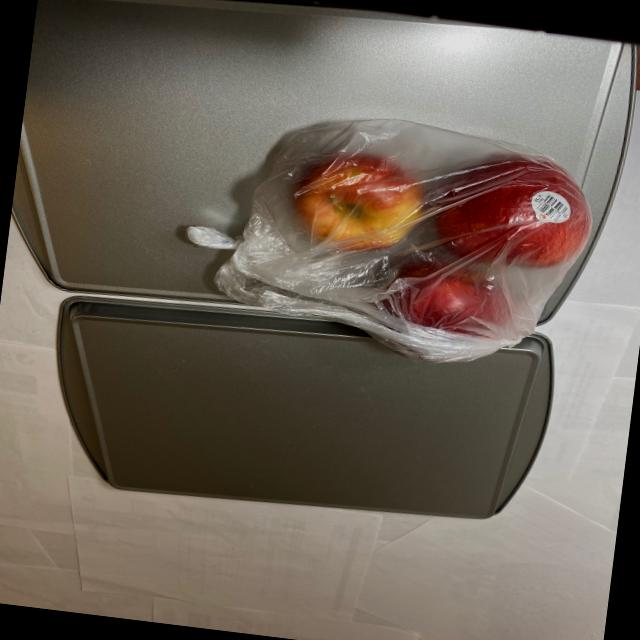apple: (268, 130, 610, 360)
